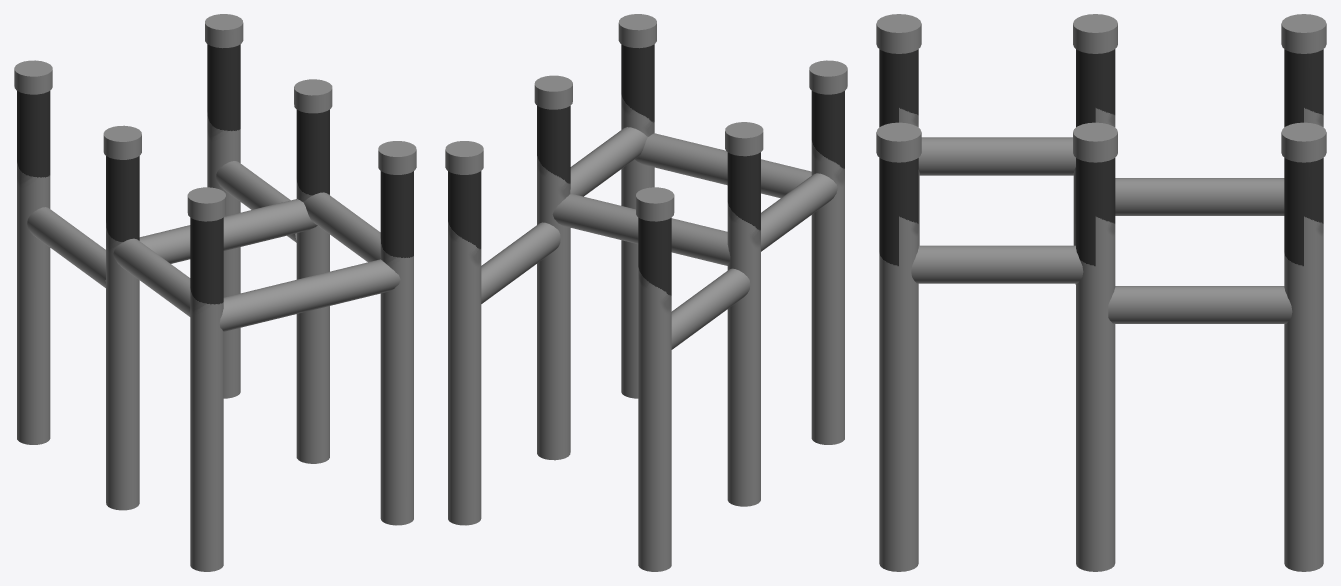
File: Jungla.fbx
3 views of the same model, side by side, from view 1: azimuth 30°, elevation 25°; view 2: azimuth 150°, elevation 25°; view 3: azimuth 270°, elevation 25° (orthographic). The views are drawn at different scales.
Parts seen in each view (by area): view 1: pCylinder77; view 2: pCylinder77; view 3: pCylinder77.
Part boxes in pixels (<box>): pCylinder77: <box>14,14,416,571</box>; pCylinder77: <box>445,14,847,571</box>; pCylinder77: <box>876,14,1326,571</box>.
Bounding box in the file's own units: 391 × 617 × 583.
